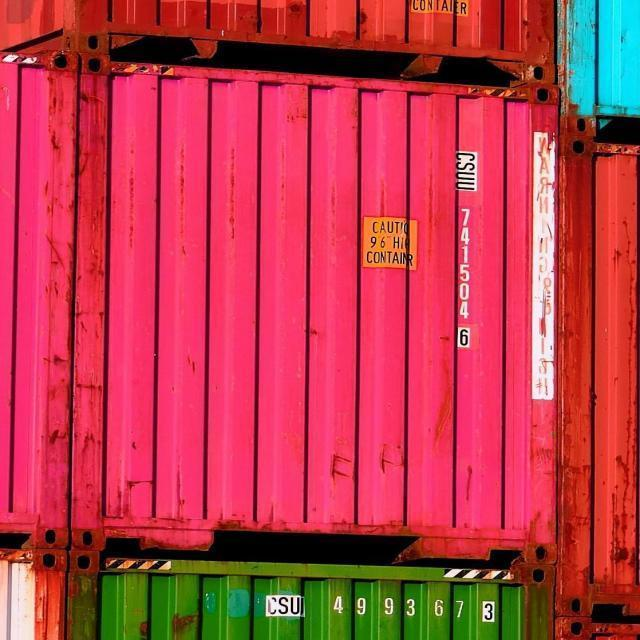container_number: (453, 146, 476, 354)
